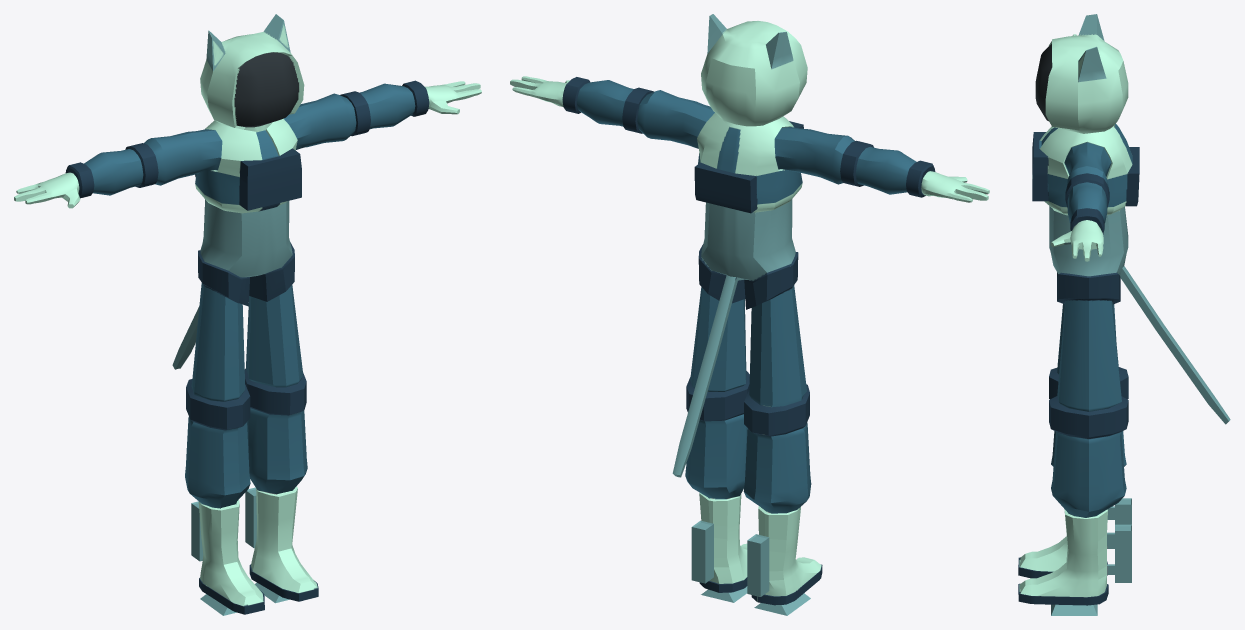
File: Player_Final_Model.fbx
3 views of the same model, side by side, from view 1: azimuth 30°, elevation 25°; view 2: azimuth 150°, elevation 25°; view 3: azimuth 270°, elevation 25° (orthographic). The views are drawn at different scales.
Parts seen in each view (by area): view 1: pCube17; view 2: pCube17; view 3: pCube17.
Boxes of the visible parts, x1,y1,x2,y2 form: pCube17: [14, 14, 481, 615]; pCube17: [510, 14, 989, 615]; pCube17: [1018, 14, 1230, 615].
Bounding box in the file's own units: 7.21 × 8.4 × 2.86.
Materials: 1 (1 with a texture image).
